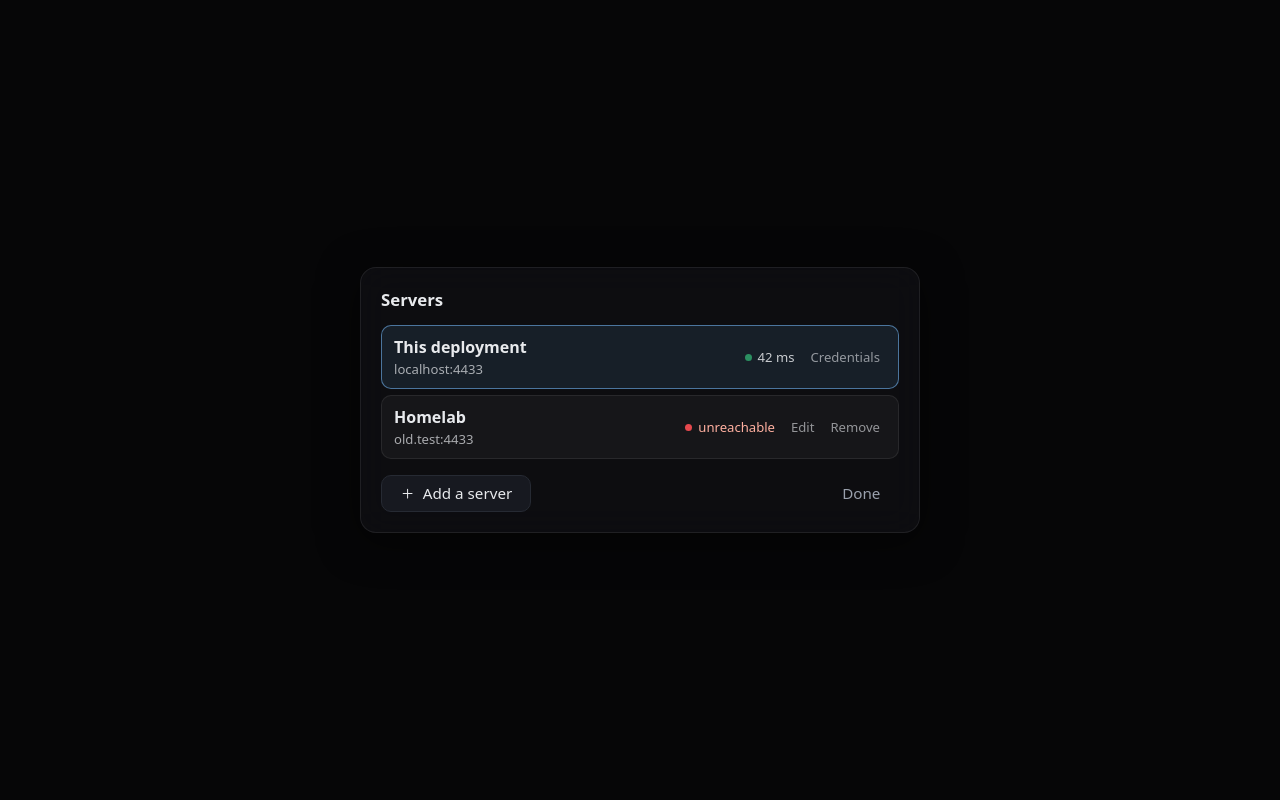
ServerPickerPanel probe after an edit › re-probes a saved server whose URL was edited
The image size is (1280, 800).
Expected: the text "unreachable" is shown, [685, 418, 775, 436]
Click the button with aria-label "Edit Homelab": (803, 427) [791, 418, 814, 436]
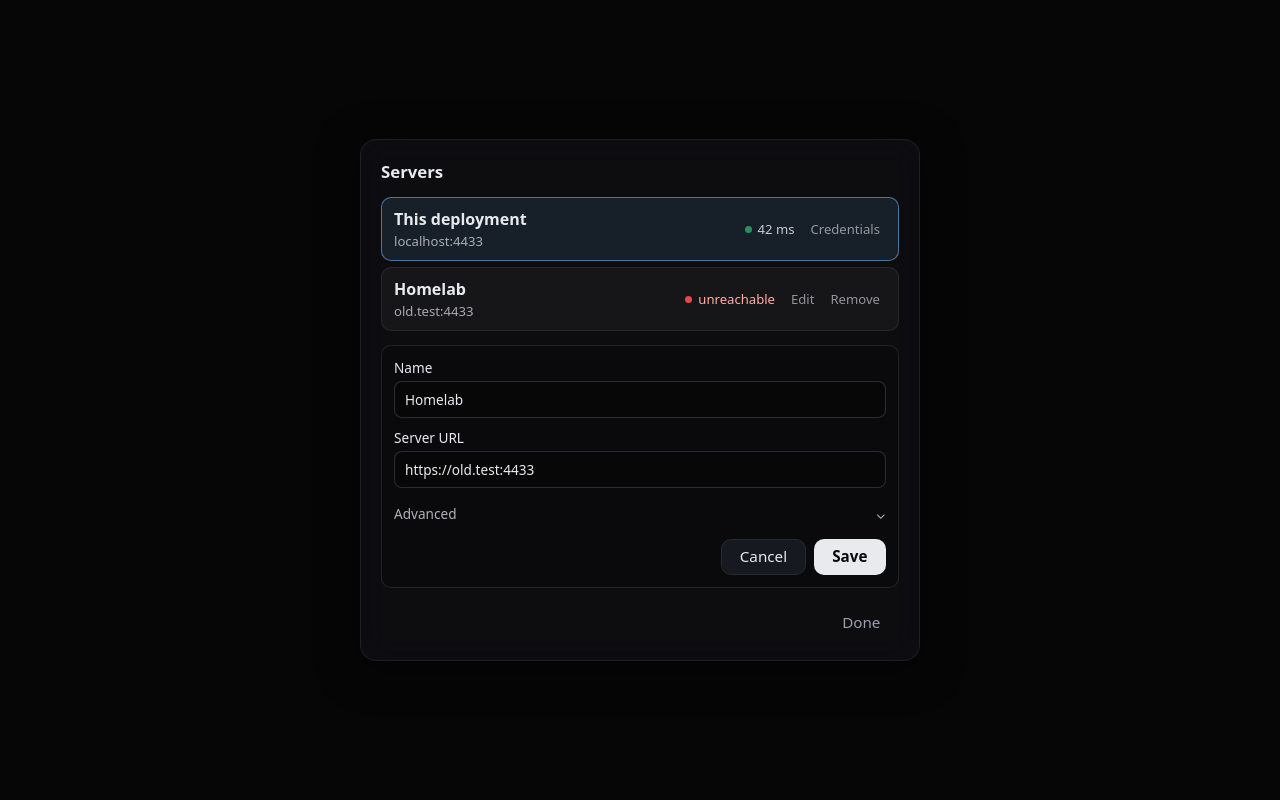
Replace the text in the field labelled "Server URL" with "https://new.test:4433": (640, 469) [394, 451, 886, 488]
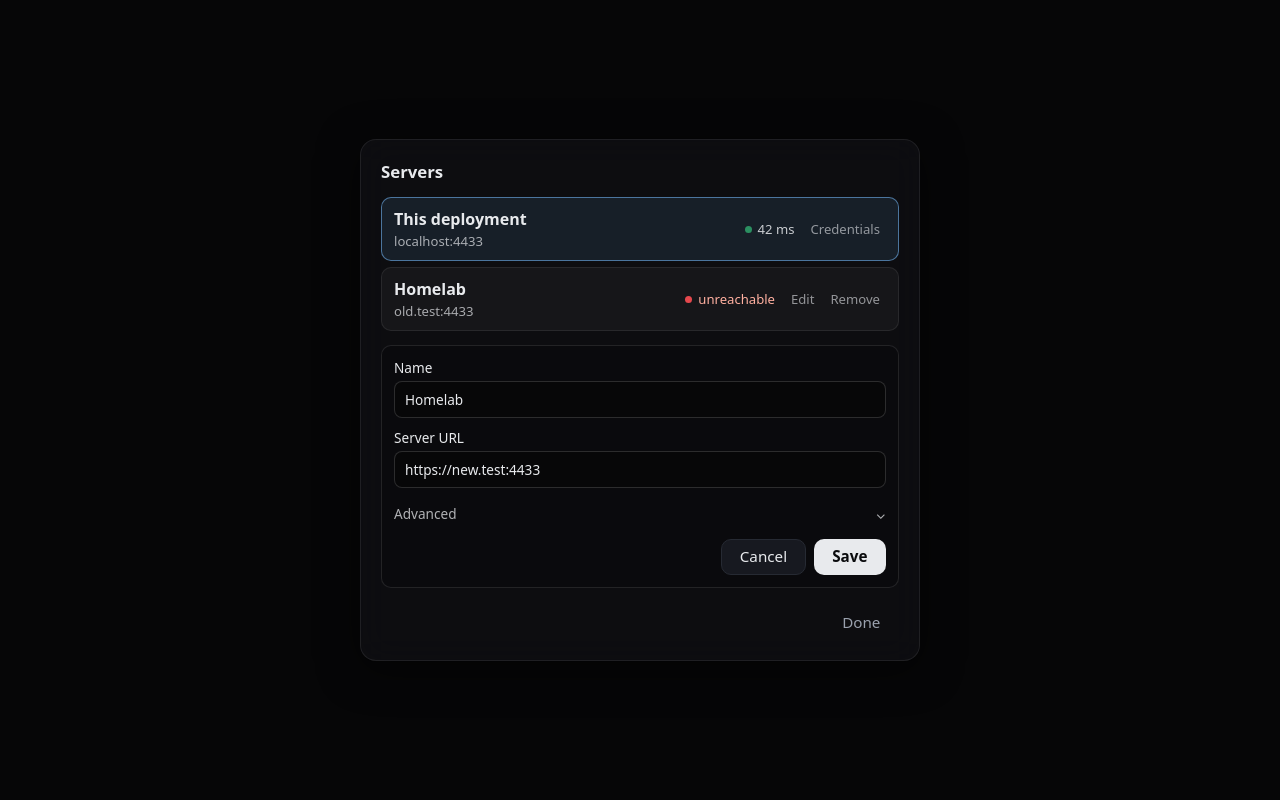
Click the button "Save": (850, 557) [814, 539, 886, 575]
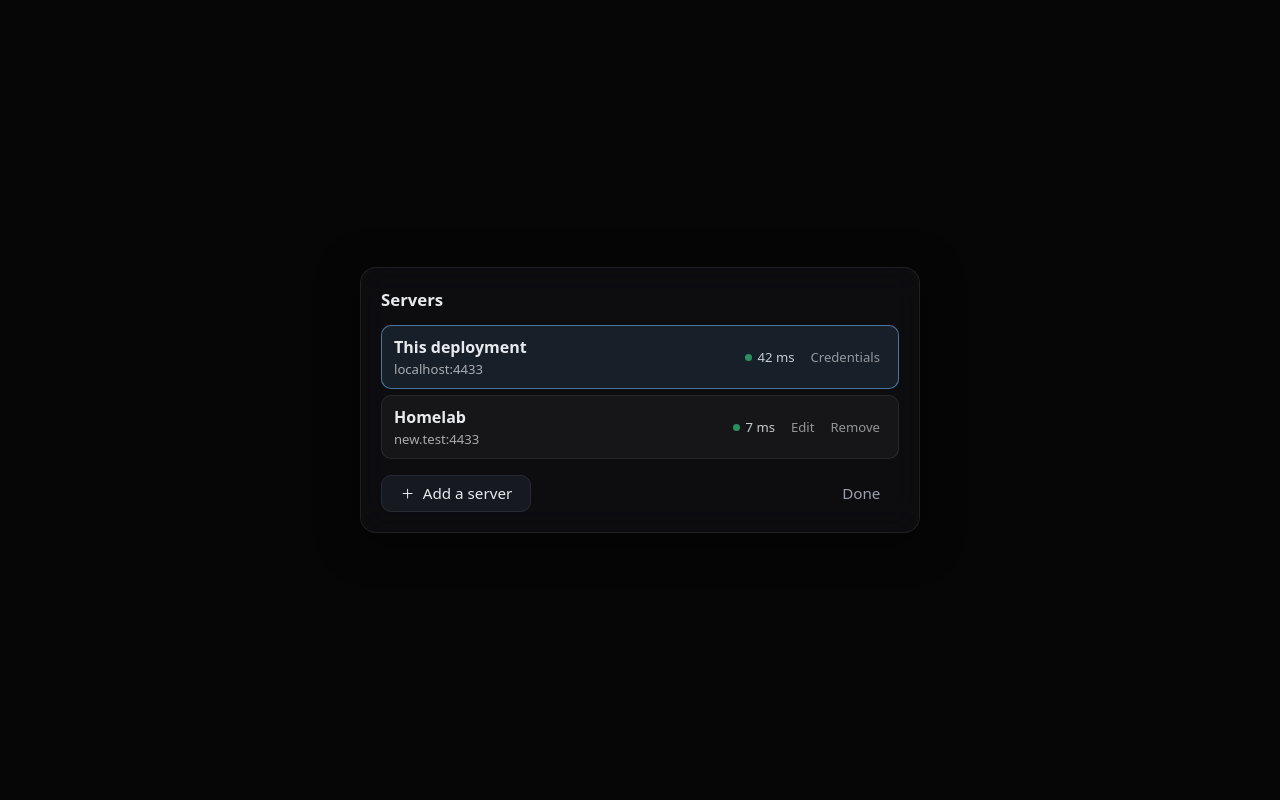
Expected: the text "7 ms" is shown, [732, 418, 775, 436]
Expected: the text "unreachable" is gone
